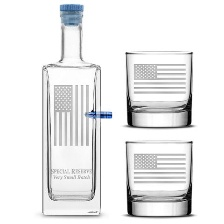bottle: (35, 1, 107, 220)
glass: (121, 47, 198, 130), (120, 136, 197, 219)
